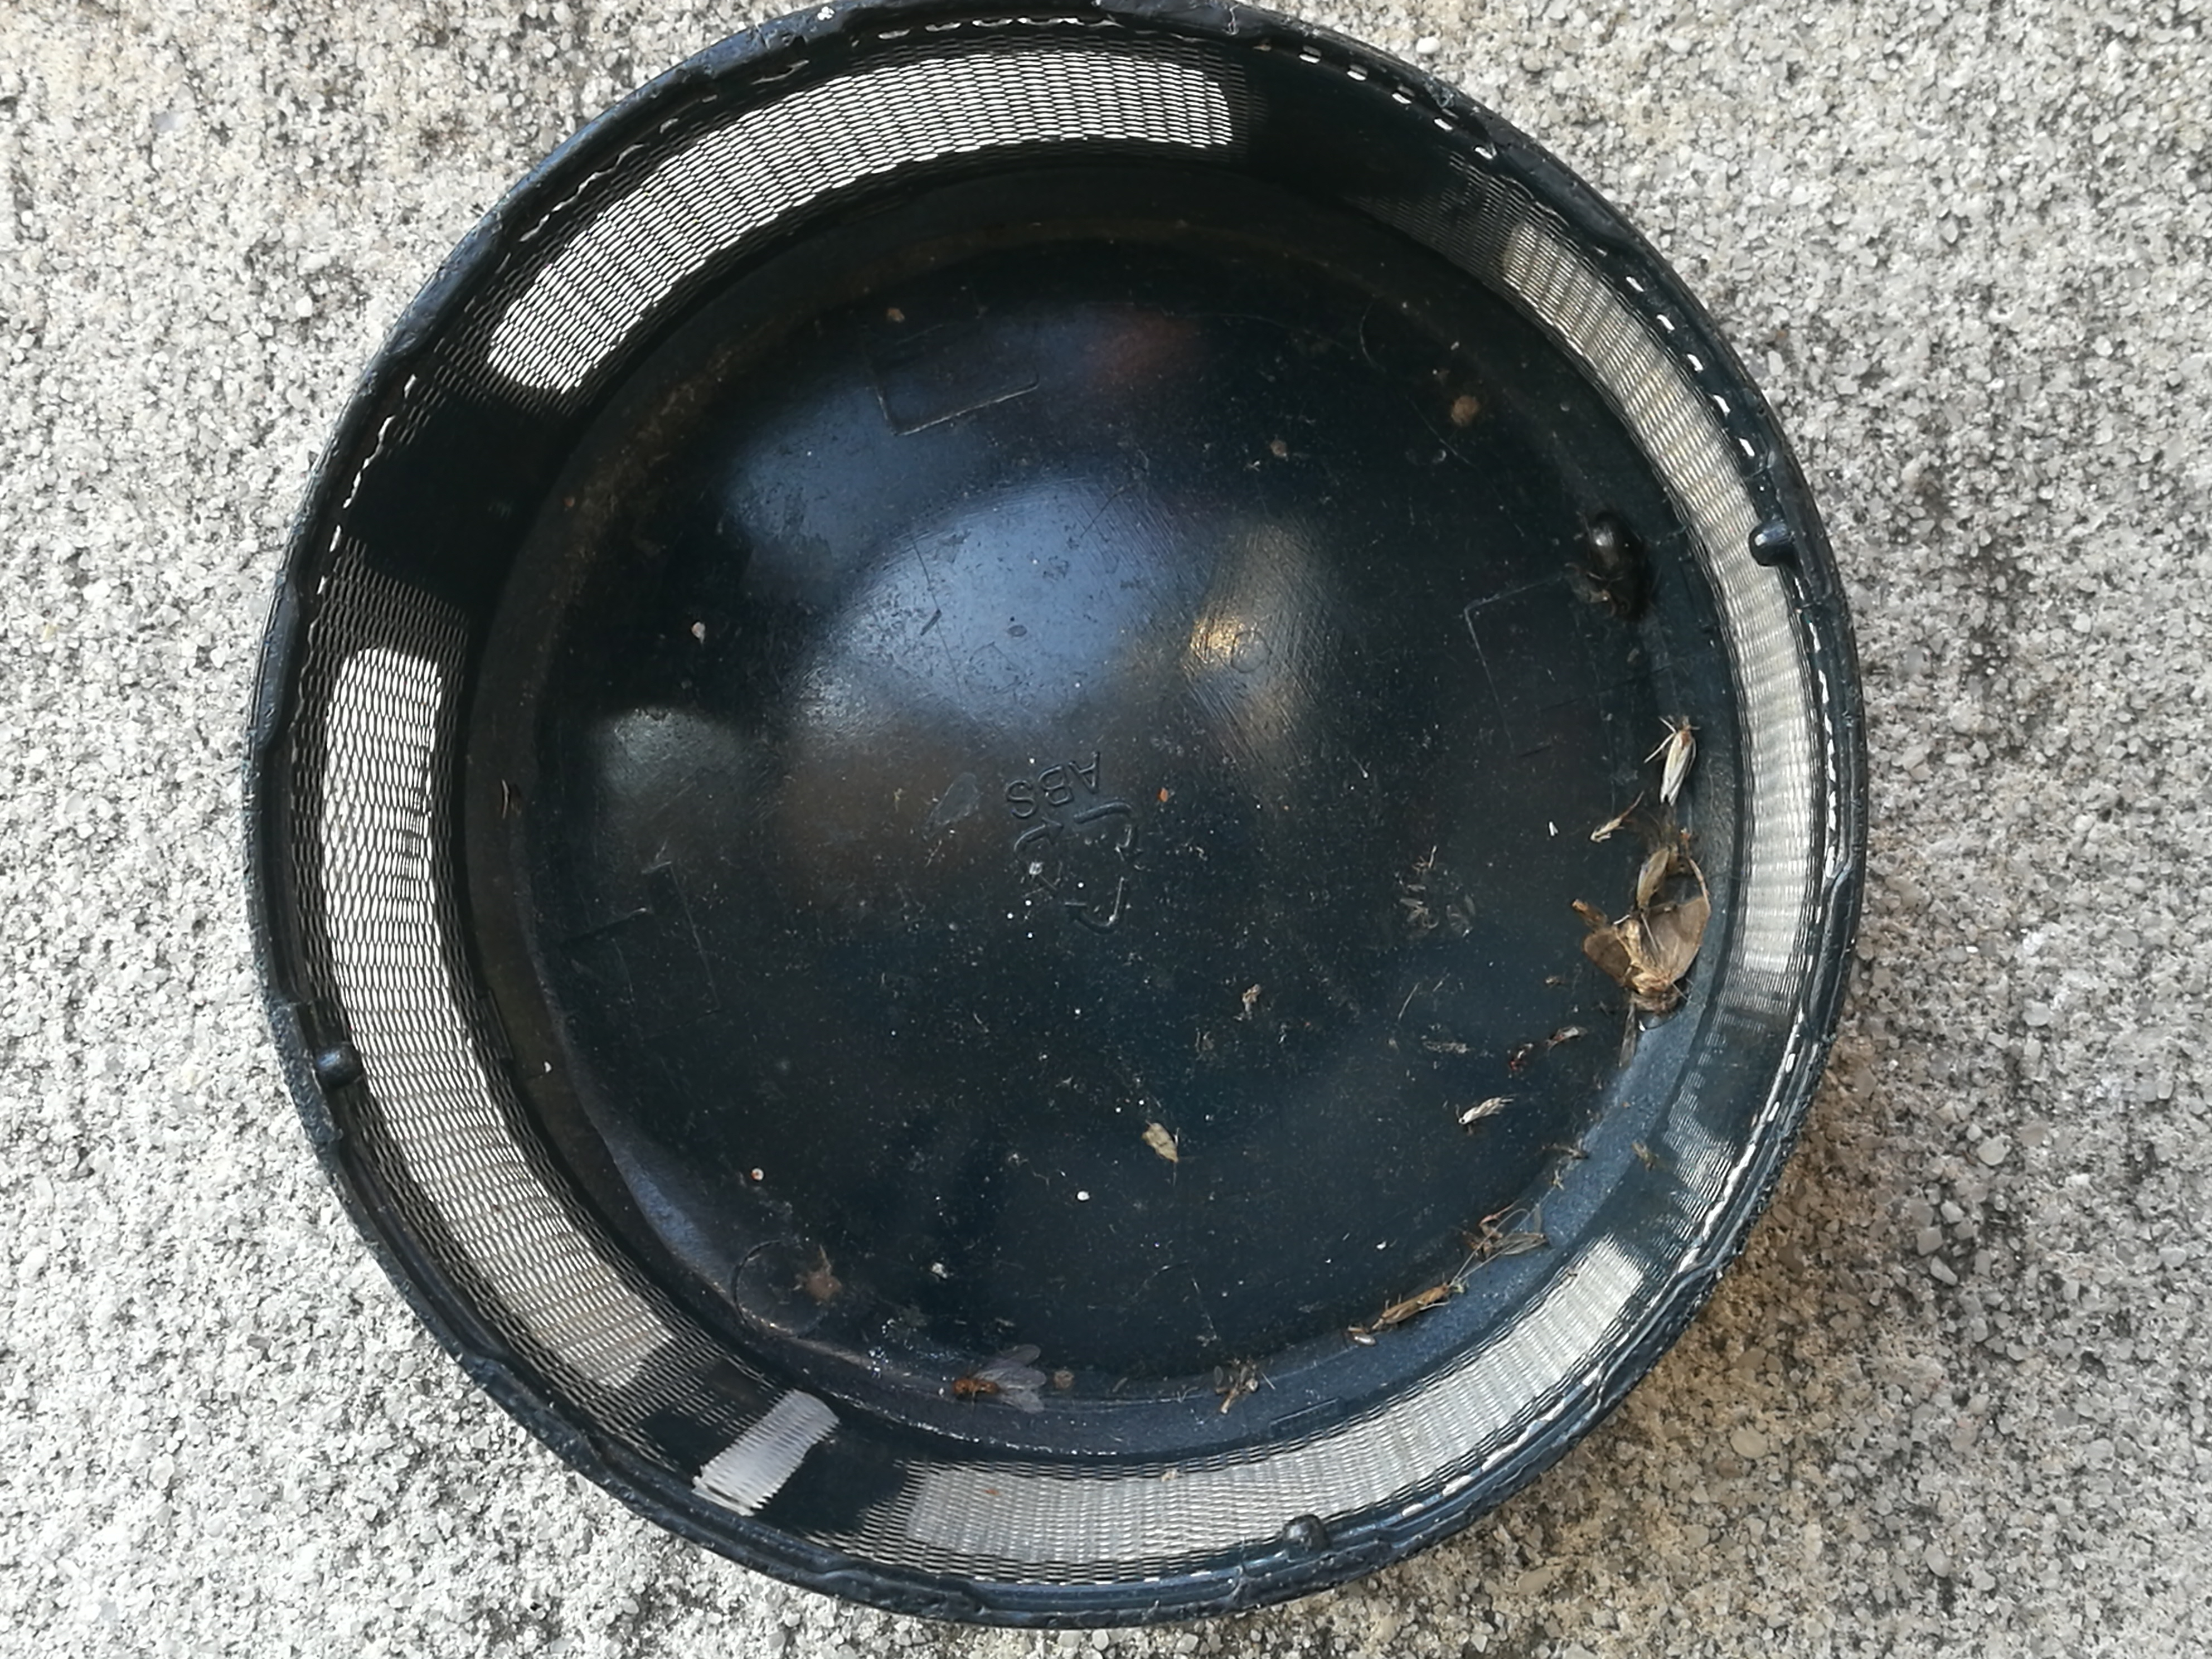beetle: (1590, 511, 1644, 617)
mosquito: (1381, 1281, 1451, 1324), (1658, 727, 1693, 802), (1637, 847, 1669, 910), (1456, 1098, 1500, 1124)
moth: (1585, 901, 1709, 1011), (956, 1344, 1045, 1412), (1143, 1124, 1177, 1162)
